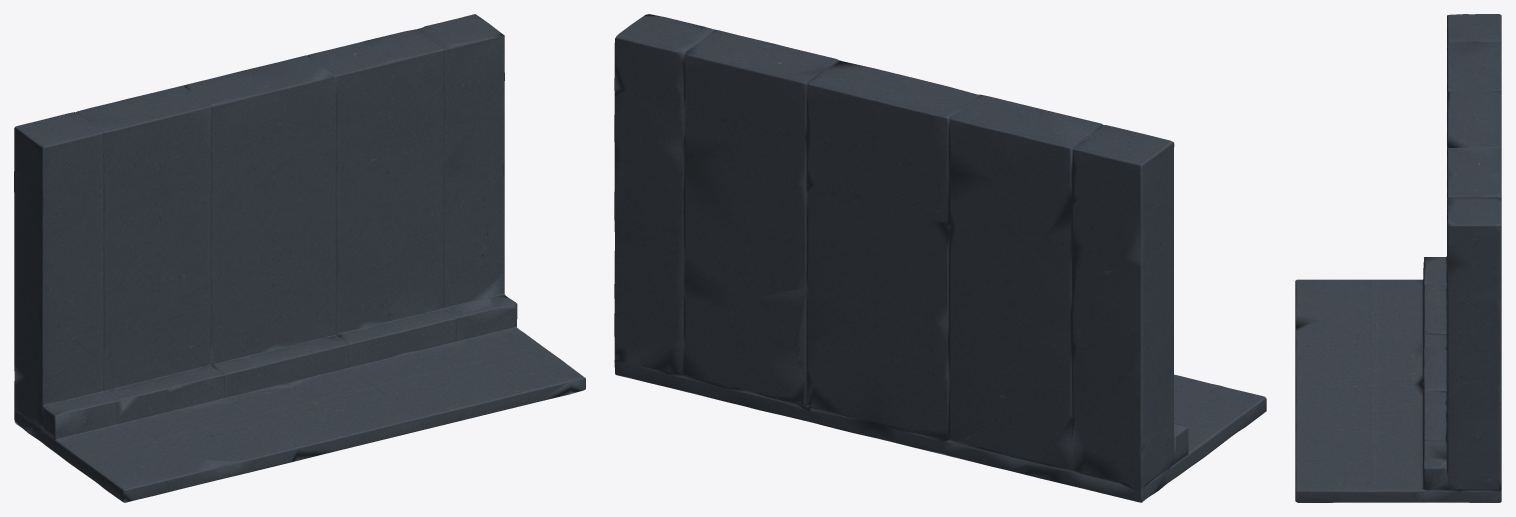
The model's file is mural_wall.glb.
3 views of the same model, side by side, from view 1: azimuth 30°, elevation 25°; view 2: azimuth 150°, elevation 25°; view 3: azimuth 270°, elevation 25° (orthographic). The views are drawn at different scales.
Size of the model in its own units: 1.9 by 1.17 by 0.7838.
1 material, 1 textured.
